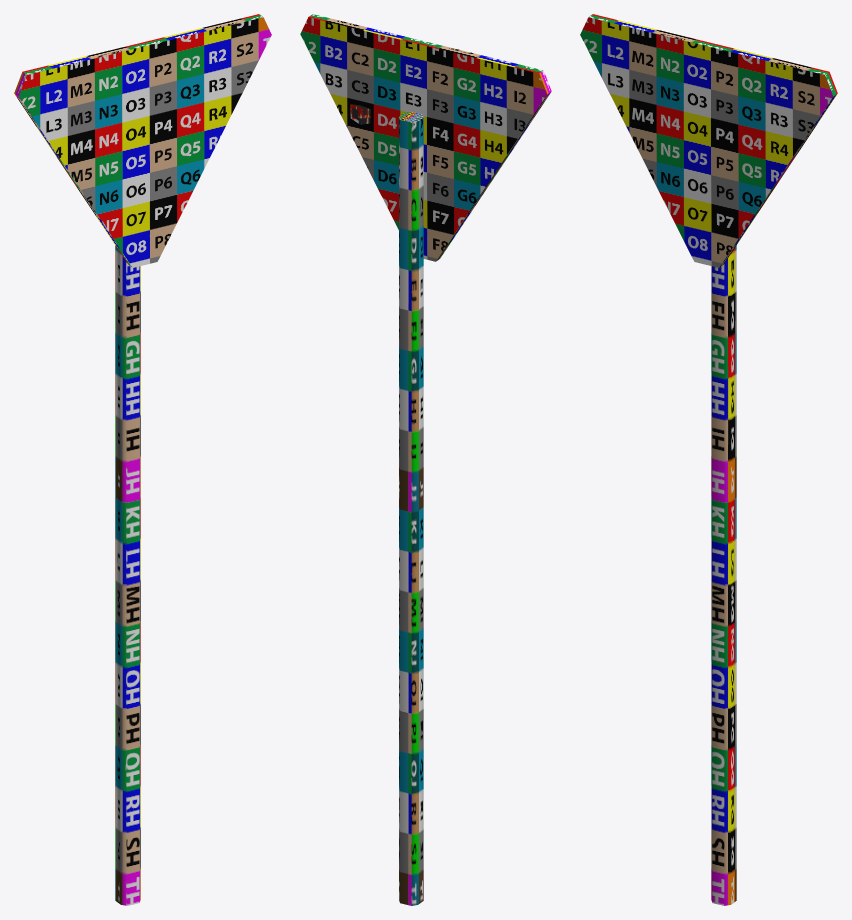
Rendered from yield sign.FBX.
The picture shows the model from 3 angles, left to right: view 1: azimuth 30°, elevation 25°; view 2: azimuth 150°, elevation 25°; view 3: azimuth 330°, elevation 25°; orthographic projection. The views are drawn at different scales.
Visible parts, largest first — view 1: yield sign; view 2: yield sign; view 3: yield sign.
Part boxes in pixels (left/top/right/bottom): yield sign: left=14, top=14, right=271, bottom=905; yield sign: left=300, top=14, right=551, bottom=905; yield sign: left=580, top=14, right=837, bottom=905.
Size of the model in its own units: 28.17 by 92.16 by 4.43.
1 material, 1 textured.
